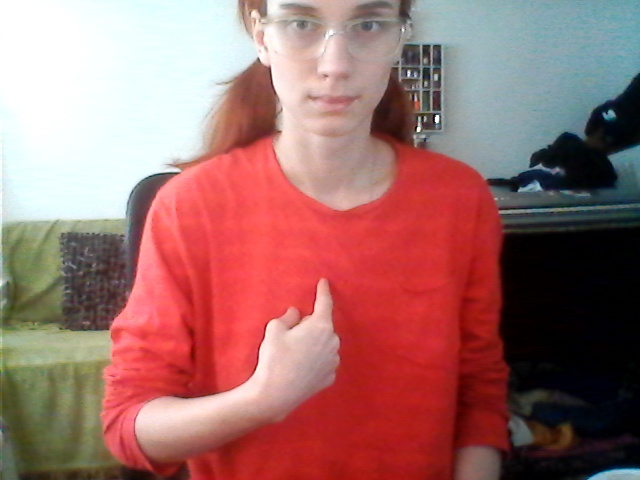ja: (233, 271, 372, 430)
